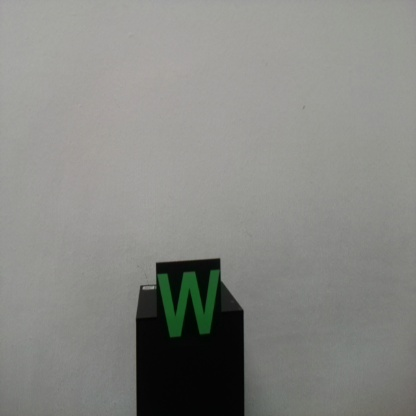id_12: (155, 260, 223, 351)
